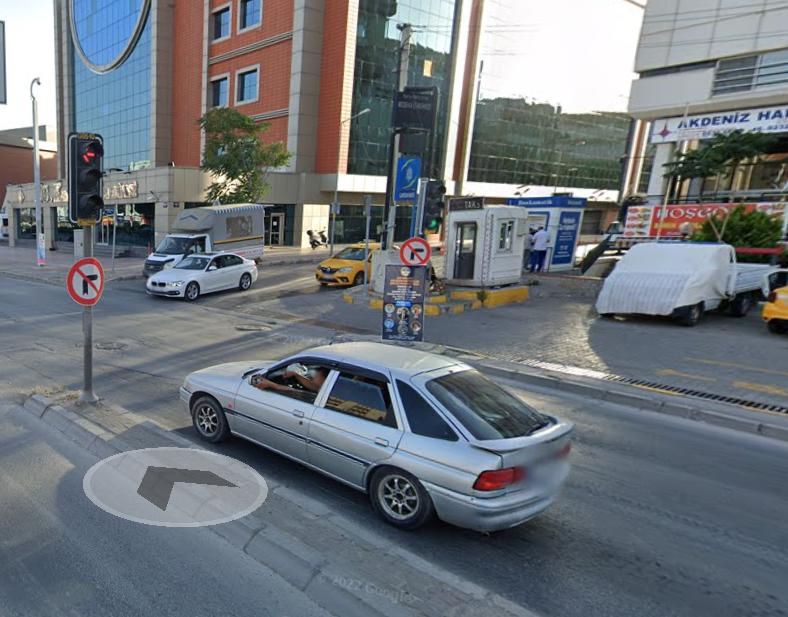greenlight: (426, 176, 447, 232)
redlight: (70, 132, 103, 226)
rightturnsareforbidden: (65, 262, 107, 304), (402, 239, 432, 268)
